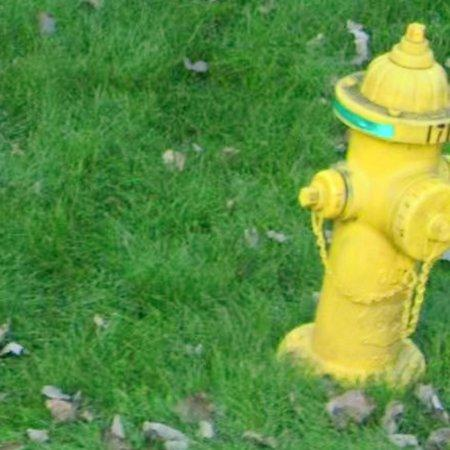a fire hydrant: (280, 22, 450, 387)
